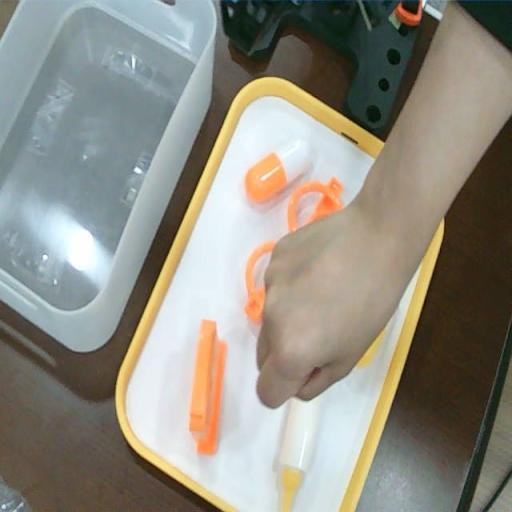hospital: (254, 204, 406, 413)
